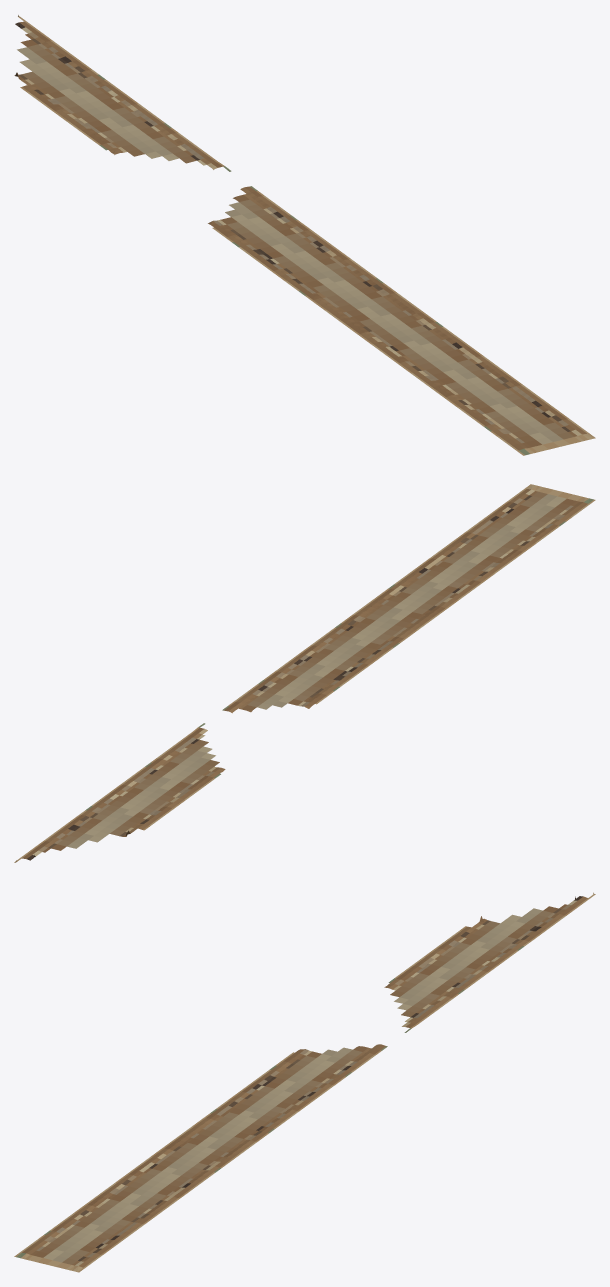
Rendered from liner_canal_lip.glb.
3 renders of one model, top to bottom at view 1: azimuth 30°, elevation 25°; view 2: azimuth 150°, elevation 25°; view 3: azimuth 330°, elevation 25°, orthographic. The views are drawn at different scales.
Parts seen in each view (by area): view 1: liner_canal_lip_body; view 2: liner_canal_lip_body; view 3: liner_canal_lip_body.
Part boxes in pixels (box(x1,y1,x2,y2)): liner_canal_lip_body: box(14, 15, 595, 455); liner_canal_lip_body: box(14, 484, 595, 862); liner_canal_lip_body: box(14, 892, 595, 1272).
Size of the model in its own units: 22 by 2.05 by 303.
